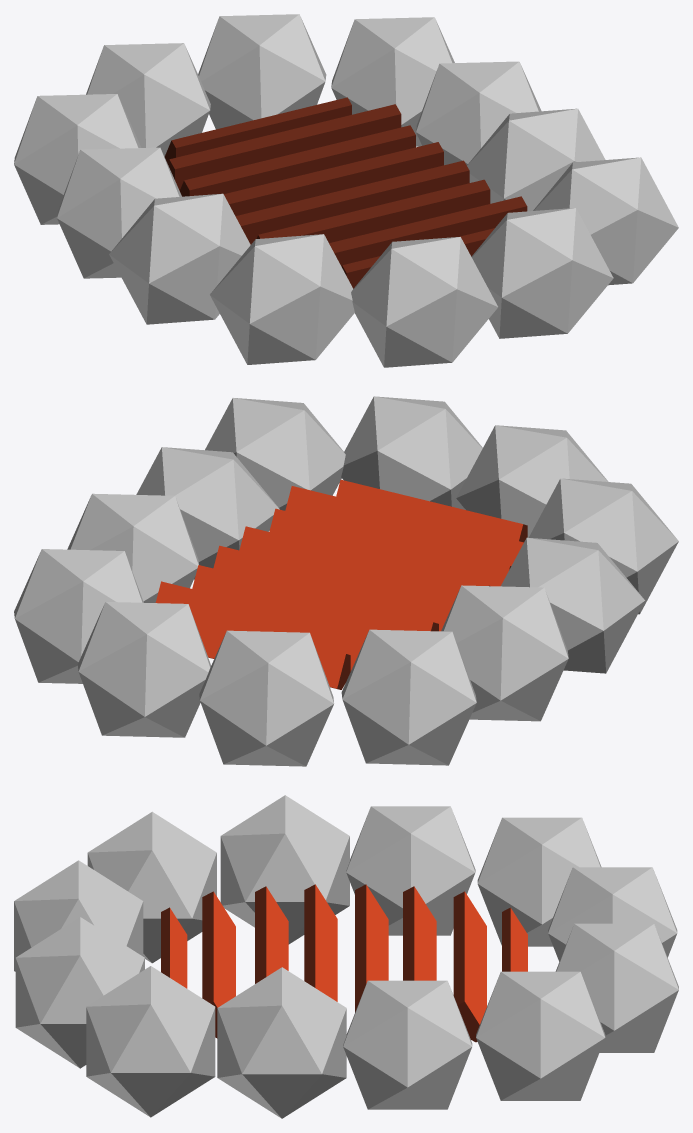
File: campfire_complete.obj
3 views of the same model, one above another, from view 1: azimuth 30°, elevation 25°; view 2: azimuth 150°, elevation 25°; view 3: azimuth 270°, elevation 25° (orthographic). The views are drawn at different scales.
Visible parts, largest first — view 1: campfire_complete_rocks_Icosphere.007, campfire_complete_woods_Cylinder.014; view 2: campfire_complete_rocks_Icosphere.007, campfire_complete_woods_Cylinder.014; view 3: campfire_complete_rocks_Icosphere.007, campfire_complete_woods_Cylinder.014.
Part boxes in pixels (x1,y1,x2,y2): campfire_complete_rocks_Icosphere.007: (14,14,678,367); campfire_complete_woods_Cylinder.014: (164,97,527,288); campfire_complete_rocks_Icosphere.007: (14,396,678,766); campfire_complete_woods_Cylinder.014: (155,479,527,689); campfire_complete_rocks_Icosphere.007: (14,795,678,1118); campfire_complete_woods_Cylinder.014: (161,884,527,1042).
Size of the model in its own units: 2.07 by 0.4949 by 2.45.
